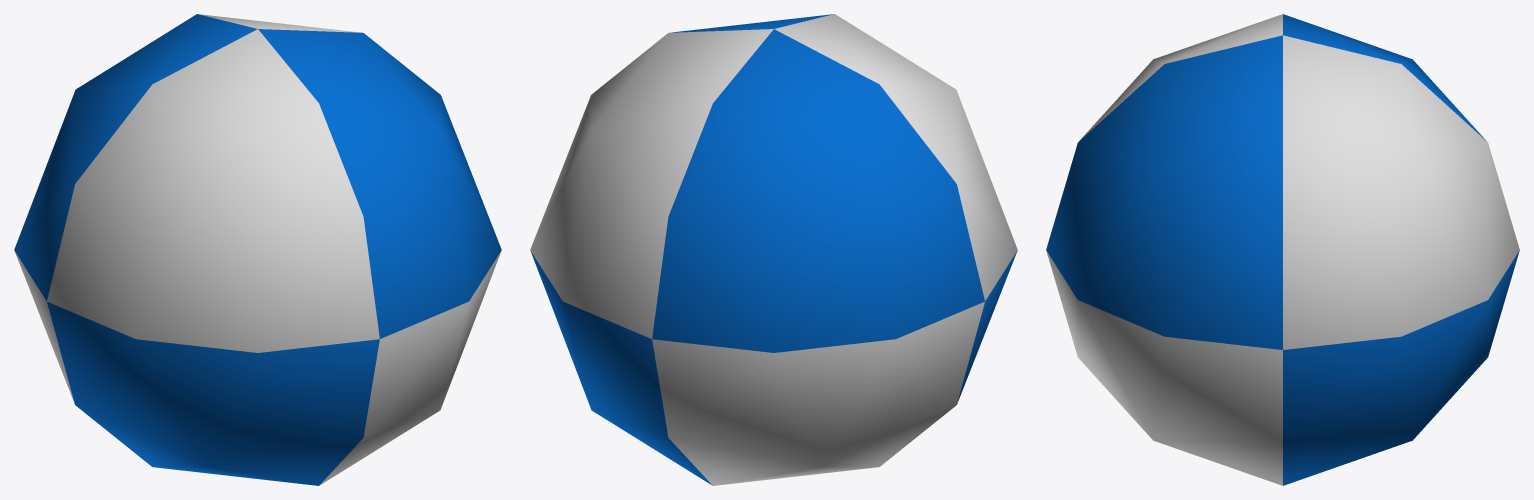
File: 3D_BeachBall.FBX
3 renders of one model, left to right at view 1: azimuth 30°, elevation 25°; view 2: azimuth 150°, elevation 25°; view 3: azimuth 270°, elevation 25°, orthographic. The views are drawn at different scales.
Parts seen in each view (by area): view 1: 3D_BeachBall; view 2: 3D_BeachBall; view 3: 3D_BeachBall.
Part boxes in pixels (x1,y1,x2,y2): 3D_BeachBall: [14, 14, 501, 485]; 3D_BeachBall: [530, 14, 1017, 485]; 3D_BeachBall: [1046, 14, 1519, 485].
Size of the model in its own units: 53.23 by 53.23 by 53.23.
